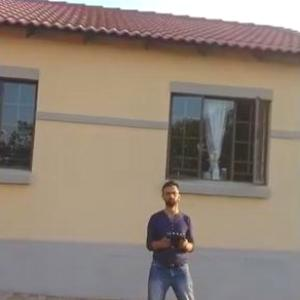follow: (139, 172, 199, 299)
